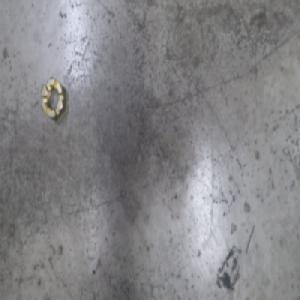Nut: (39, 74, 67, 122)
